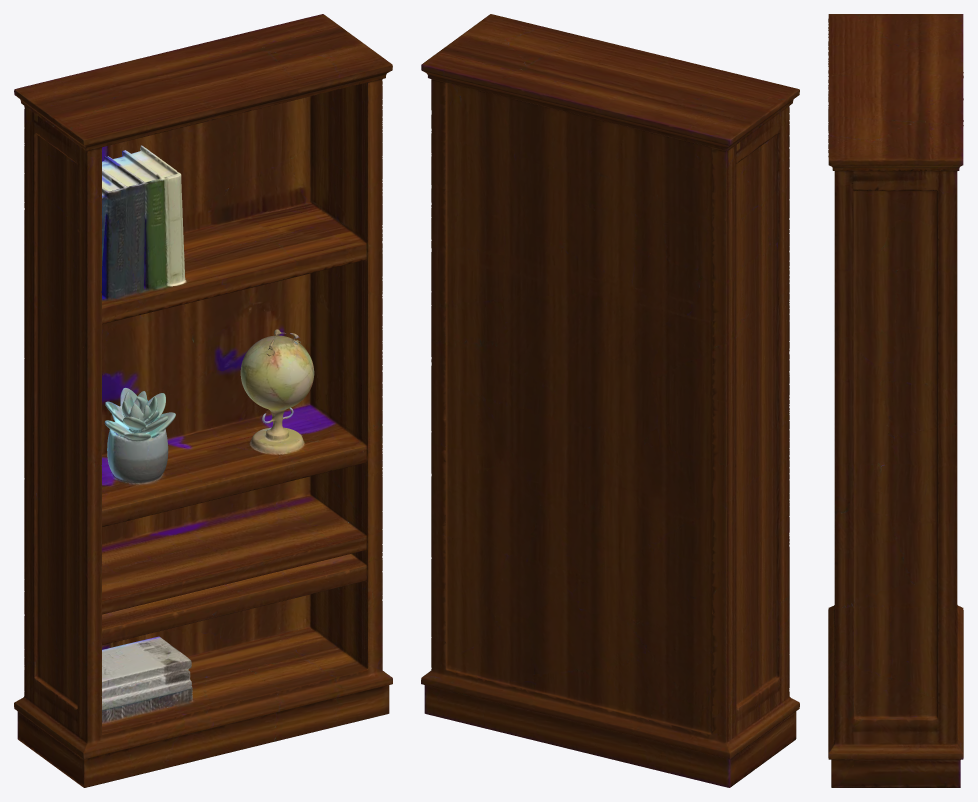
File: manager_bookshelf.glb
3 renders of one model, left to right at view 1: azimuth 30°, elevation 25°; view 2: azimuth 150°, elevation 25°; view 3: azimuth 270°, elevation 25°, orthographic. The views are drawn at different scales.
Size of the model in its own units: 0.9468 by 1.9 by 0.3698.
Materials: 1 (1 with a texture image).
